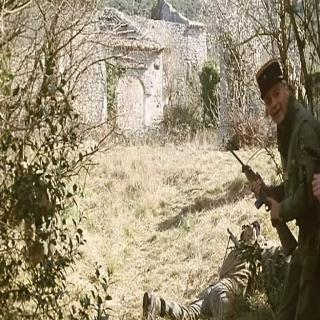gun: (222, 136, 301, 253)
